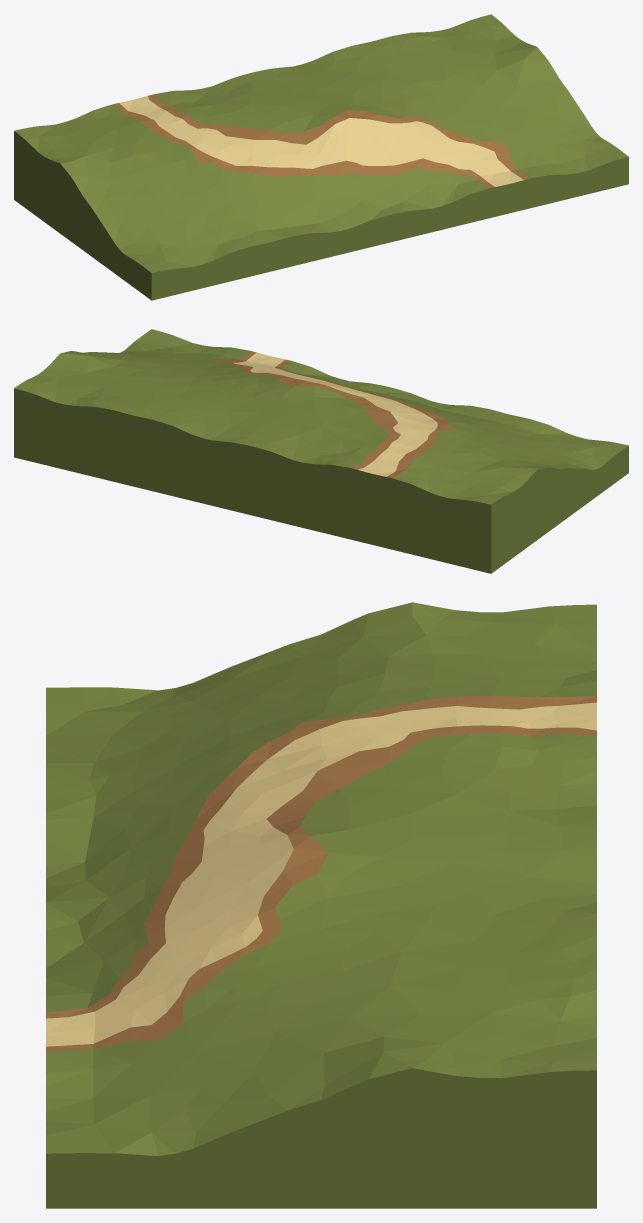
File: Terrian_Road_STurn_Hill-01.fbx
3 views of the same model, one above another, from view 1: azimuth 30°, elevation 25°; view 2: azimuth 150°, elevation 25°; view 3: azimuth 270°, elevation 25° (orthographic). The views are drawn at different scales.
Parts seen in each view (by area): view 1: Terrian_Road_STurn_Hill-01; view 2: Terrian_Road_STurn_Hill-01; view 3: Terrian_Road_STurn_Hill-01.
Boxes of the visible parts, box(x1,y1,x2,y2) form: Terrian_Road_STurn_Hill-01: box(14, 14, 628, 300); Terrian_Road_STurn_Hill-01: box(14, 329, 628, 573); Terrian_Road_STurn_Hill-01: box(46, 602, 596, 1208).
Size of the model in its own units: 7200 by 1077 by 3601.
1 material, 1 textured.
